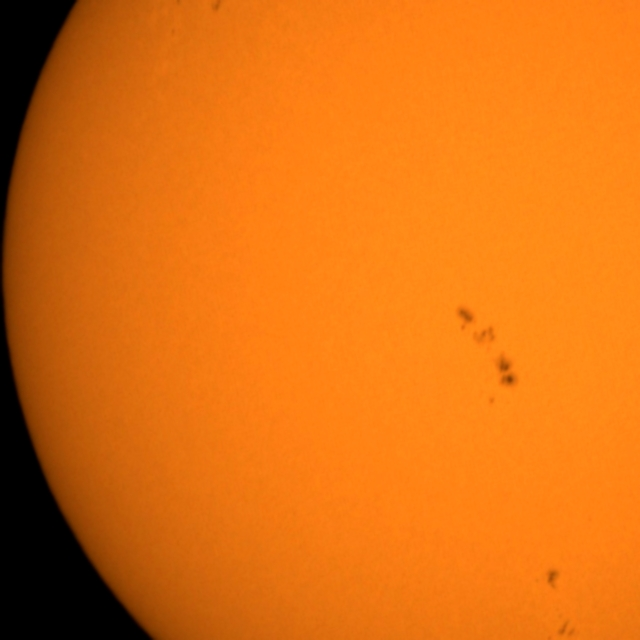sunspot: (454, 304, 499, 348), (493, 353, 522, 390), (544, 614, 578, 640), (532, 566, 562, 592), (208, 0, 225, 15), (168, 26, 178, 39)
